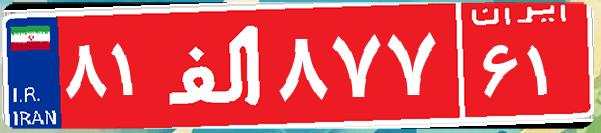1: (110, 28, 158, 105), (525, 38, 570, 115)
6: (475, 38, 525, 113)
7: (385, 28, 445, 110), (330, 28, 385, 110)
8: (273, 28, 330, 110), (57, 26, 110, 107)
الف: (158, 15, 273, 115)
